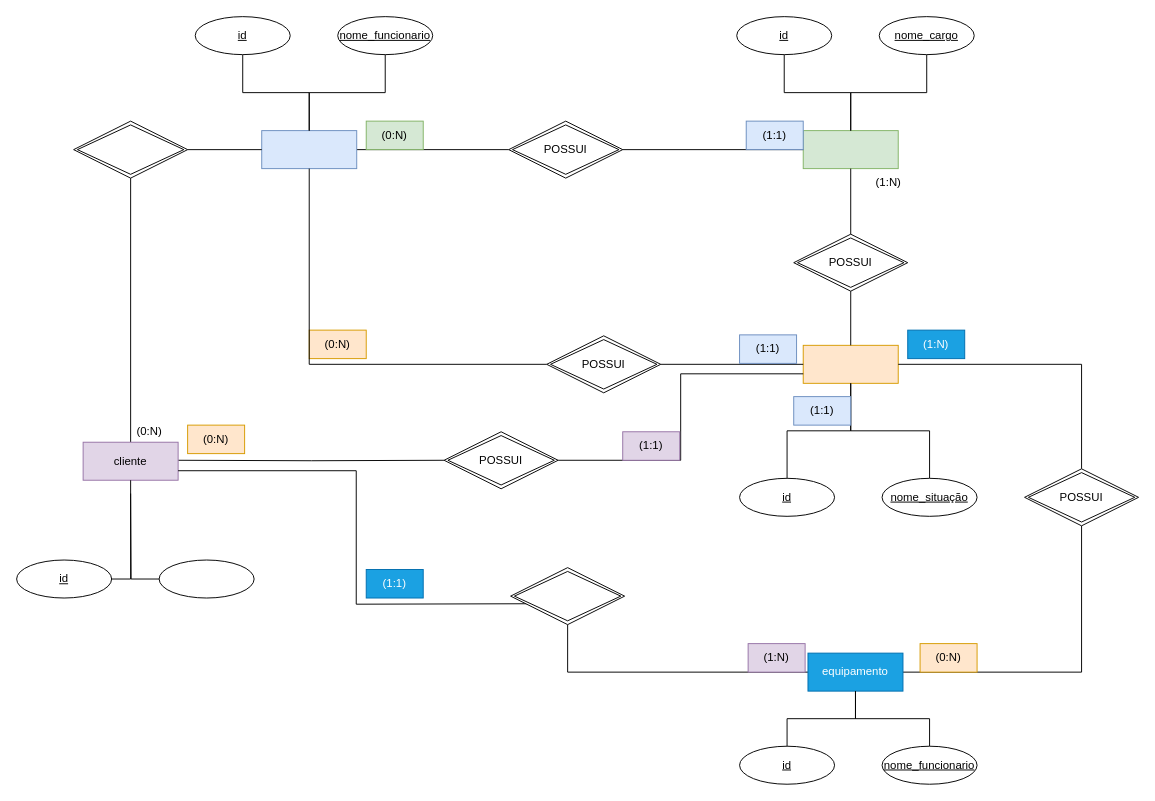
This 1155x801 diagram has some shape labels left out. The shapes that lost their labels are listed below. From the top down, each one's centre as x and y in pixels, then its label:
At (130,149): "CADASTRA".
At (309,149): "funcionário".
At (850,149): "cargo".
At (850,363): "situacao".
At (206,578): "nome_cliente".
At (567,596): "PERTENCE".
